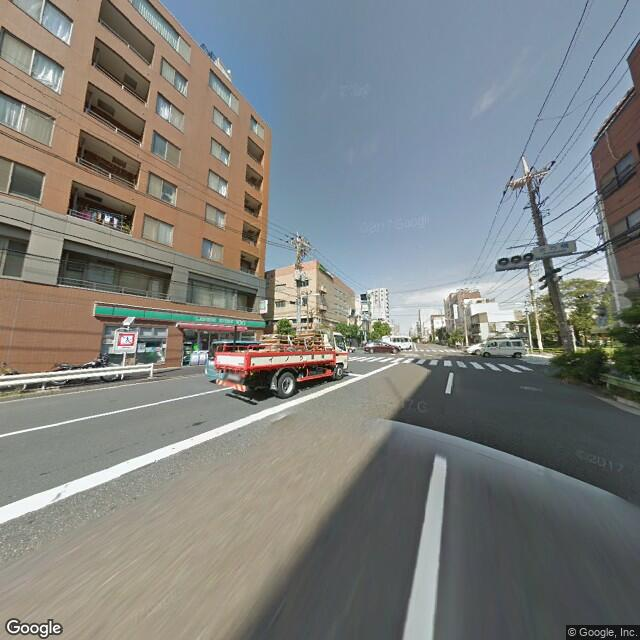lawson: (93, 296, 269, 329)
